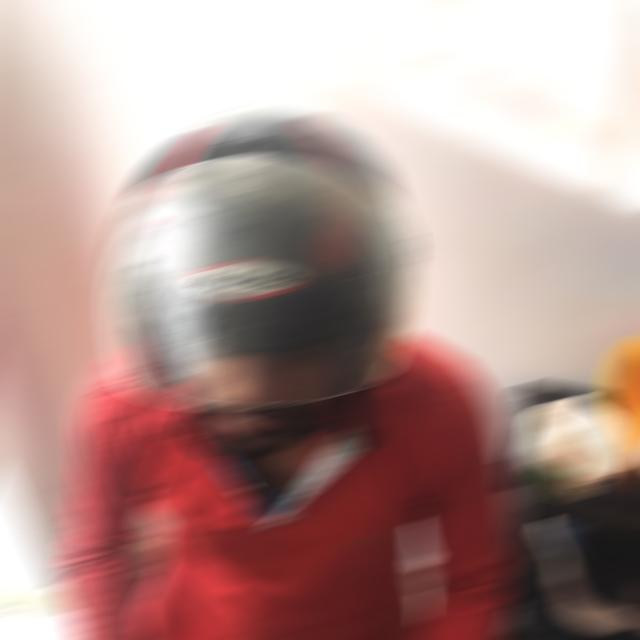With Helmet: (100, 101, 420, 410)
